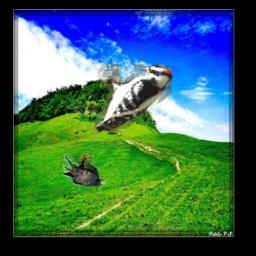Crow: (63, 154, 105, 186)
Woodpecker: (94, 64, 172, 132)
